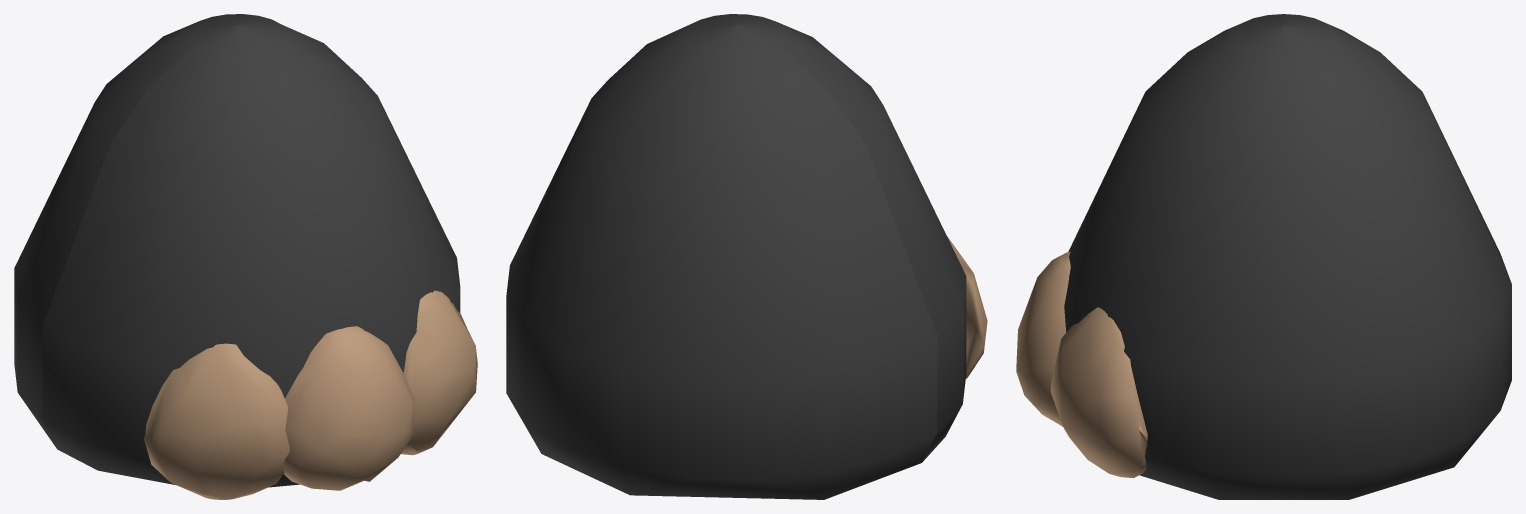
The model's file is foot_pachyderm_optimized60.glb.
3 views of the same model, side by side, from view 1: azimuth 30°, elevation 25°; view 2: azimuth 150°, elevation 25°; view 3: azimuth 270°, elevation 25° (orthographic). The views are drawn at different scales.
Parts seen in each view (by area): view 1: CombinedMesh_MaterialSlots; view 2: CombinedMesh_MaterialSlots; view 3: CombinedMesh_MaterialSlots.
Part boxes in pixels (left/top/right/bottom): CombinedMesh_MaterialSlots: left=14, top=14, right=477, bottom=499; CombinedMesh_MaterialSlots: left=506, top=14, right=987, bottom=499; CombinedMesh_MaterialSlots: left=1016, top=14, right=1511, bottom=499.
Size of the model in its own units: 2.14 by 2.12 by 2.31.
